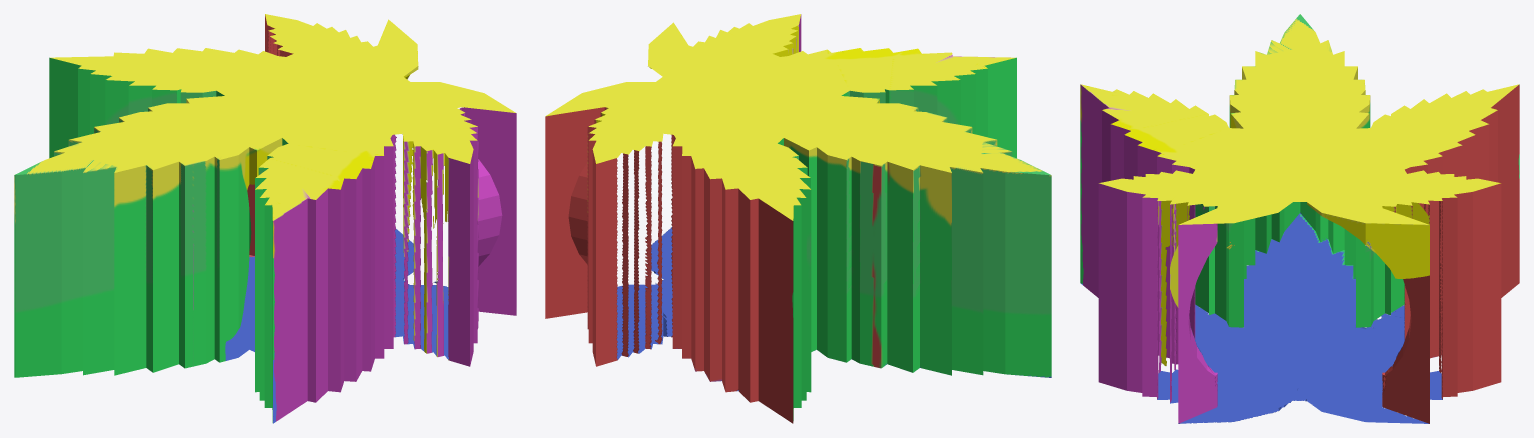
The model's file is leaf_top.dae.
3 views of the same model, side by side, from view 1: azimuth 30°, elevation 25°; view 2: azimuth 150°, elevation 25°; view 3: azimuth 270°, elevation 25° (orthographic).
Parts seen in each view (by area): view 1: leaf_top; view 2: leaf_top; view 3: leaf_top.
Boxes of the visible parts, <box> form: leaf_top: <box>14,14,516,423</box>; leaf_top: <box>545,14,1051,423</box>; leaf_top: <box>1080,14,1519,423</box>.
Size of the model in its own units: 150 by 132 by 66.
1 material, 1 textured.
